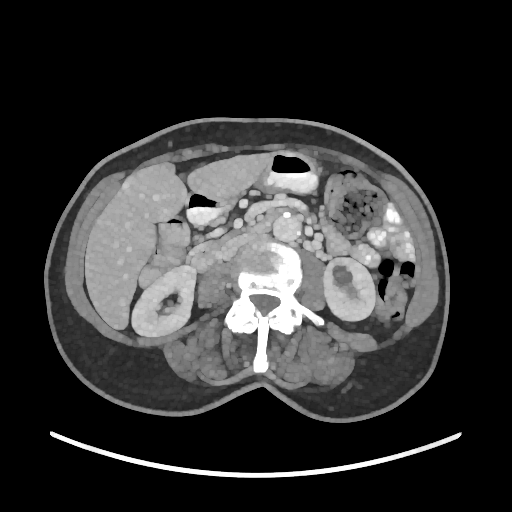Lesion: (329, 263, 357, 288)
